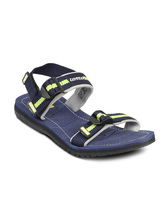shoes: (9, 60, 159, 159)
